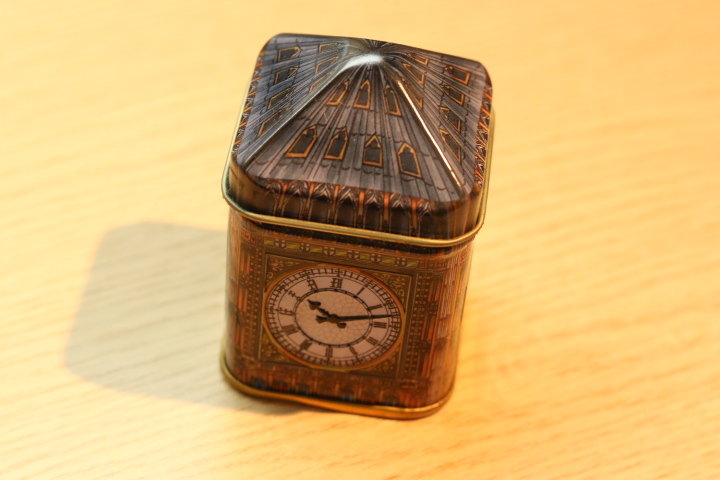Big Ben: (204, 17, 504, 439)
